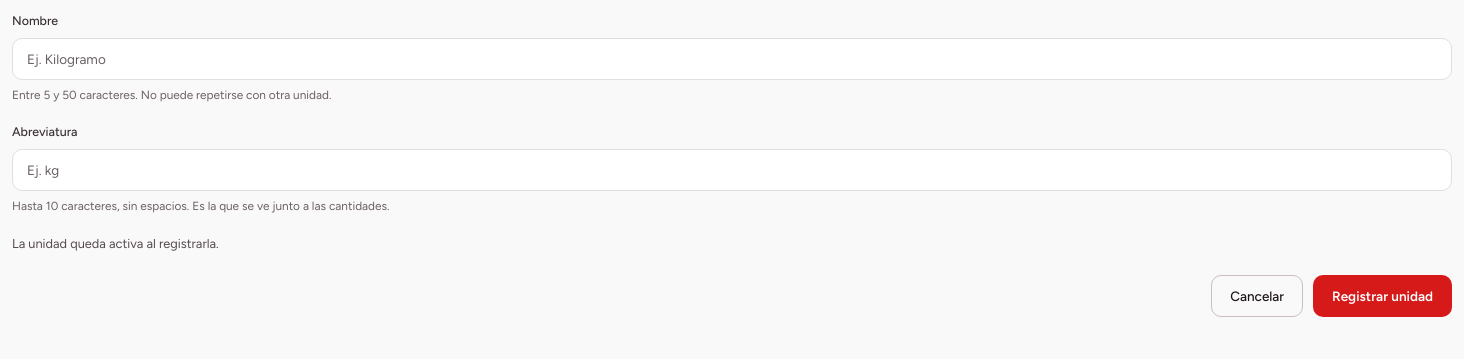
Test case: CreateUnitForm › validates Unidad / u nd
Step 1. Type "Unidad" into the field labelled "Nombre" → (732, 59), box [12,38,1452,80]
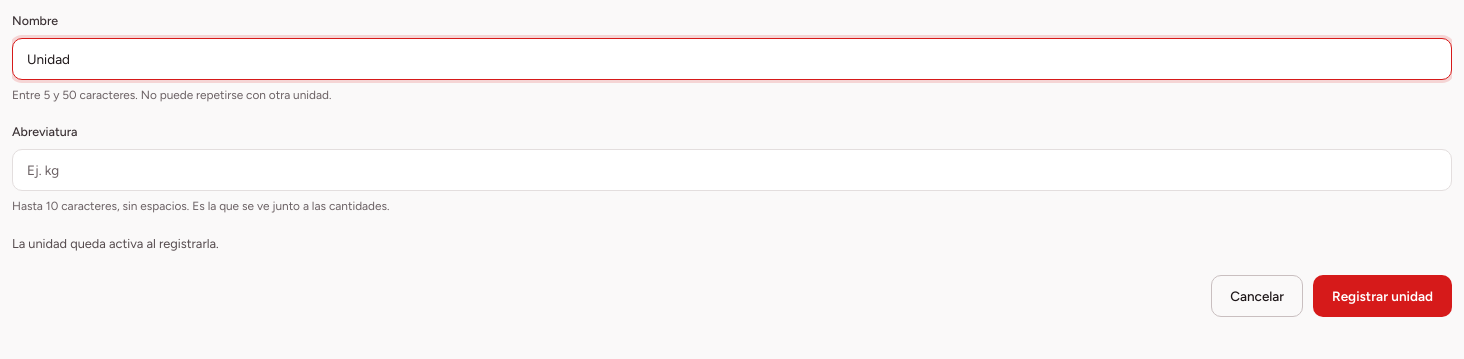
Step 2. Type "u nd" into the field labelled "Abreviatura" → (732, 170), box [12,149,1452,191]
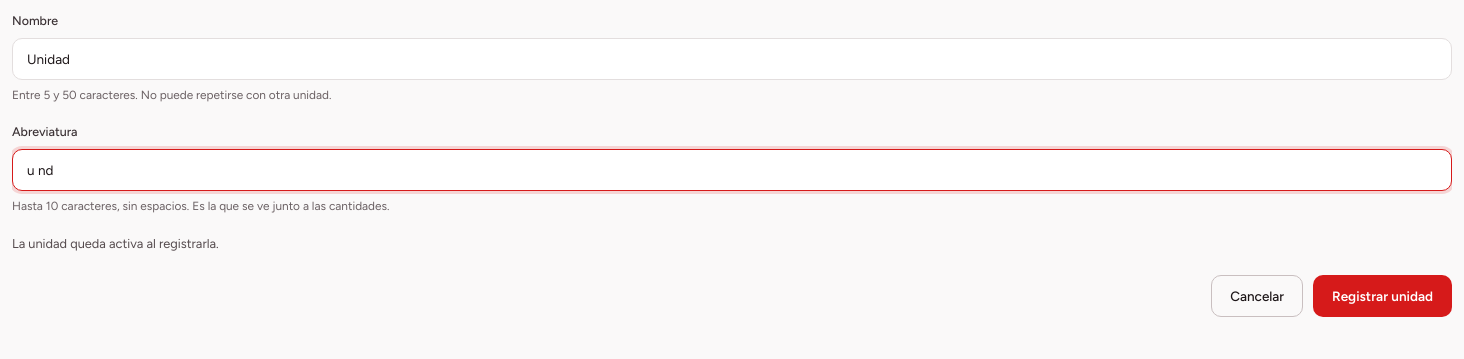
Step 3. Click the button "Registrar unidad" → (1383, 296), box [1313,275,1452,317]
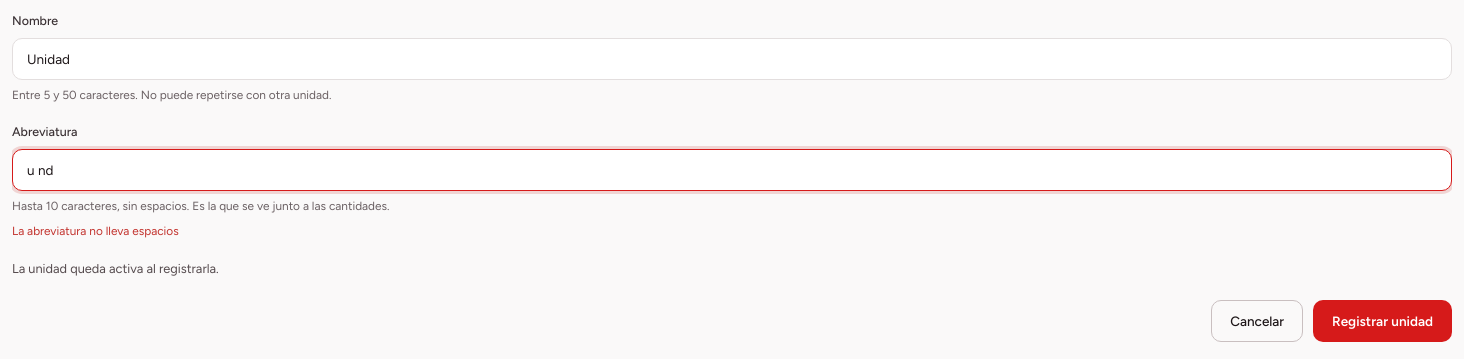
Expected: the text "La abreviatura no lleva espacios" is shown, [12,224,179,238]
